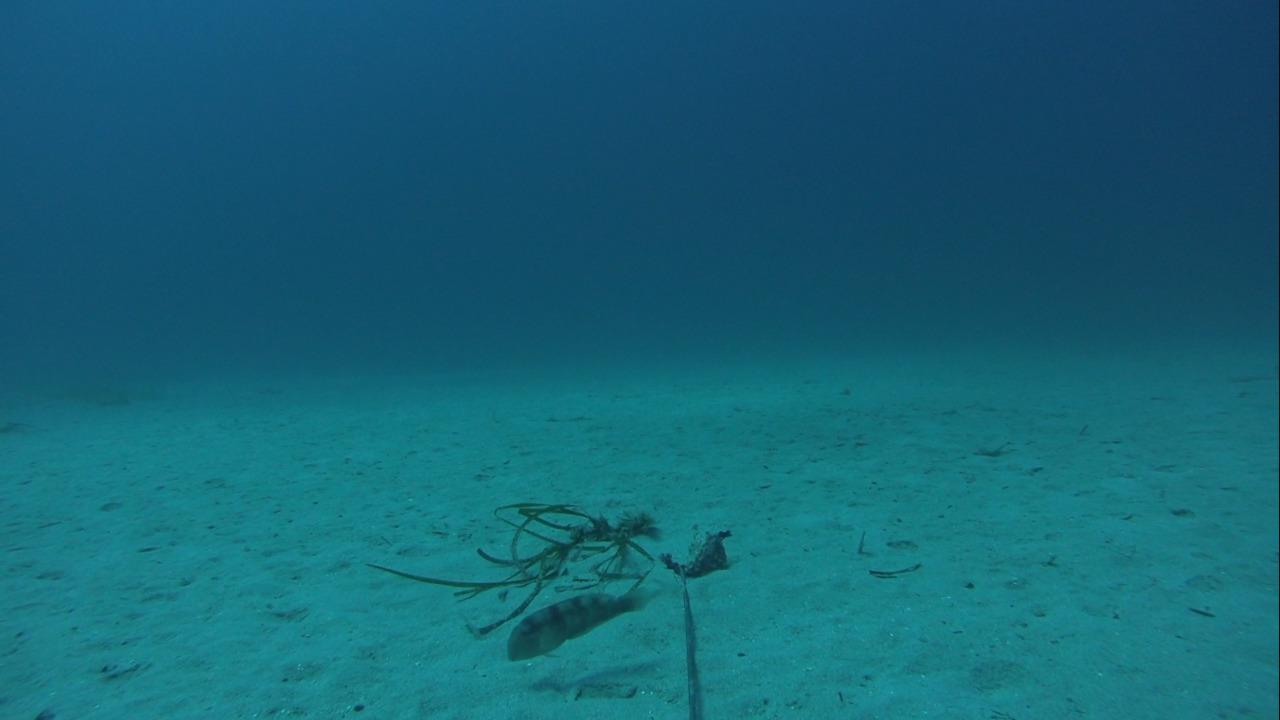raor: (503, 586, 652, 663)
